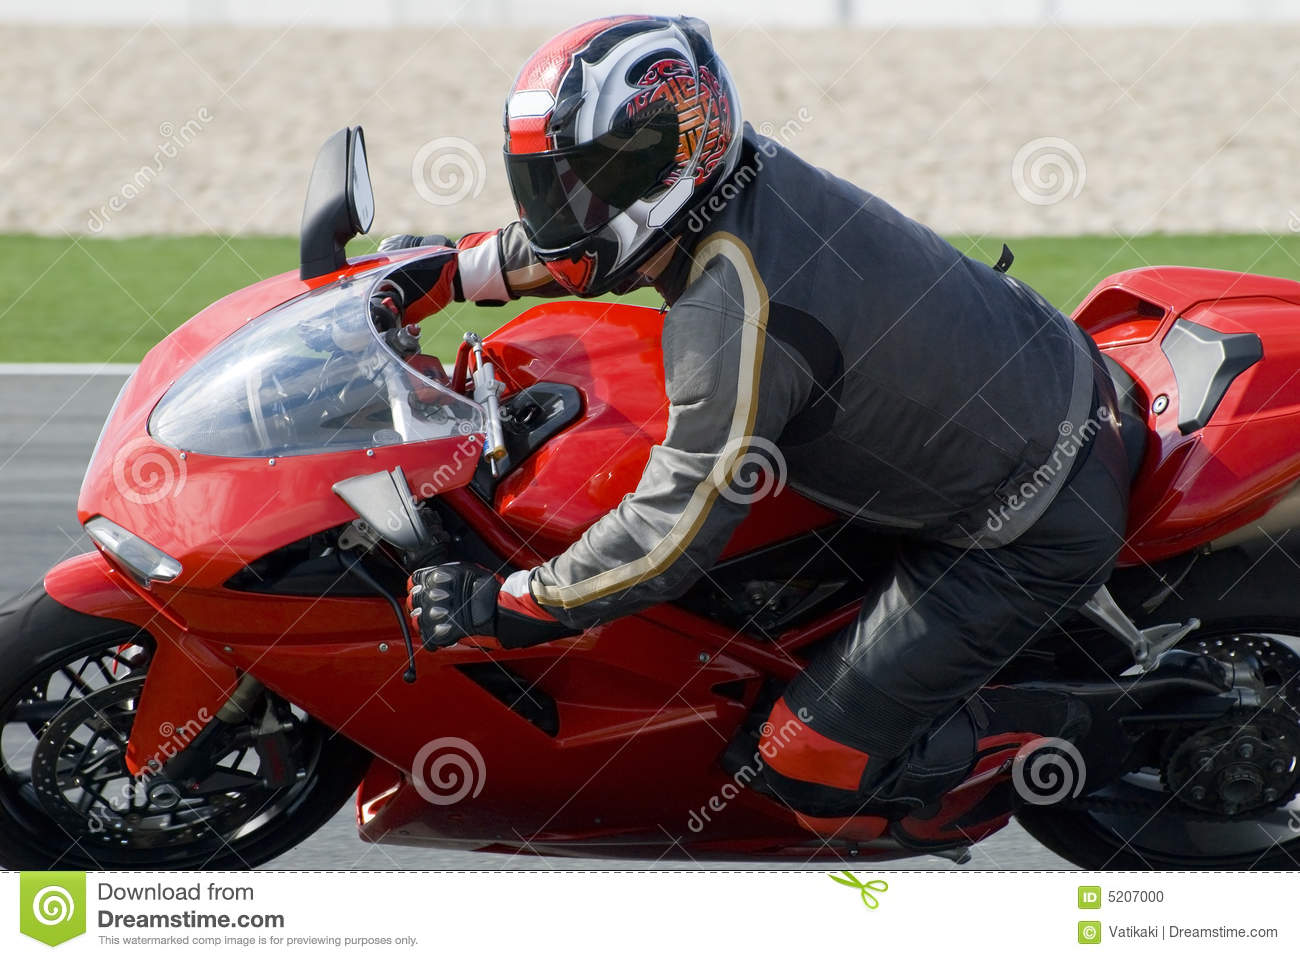helmet: (501, 18, 743, 225)
